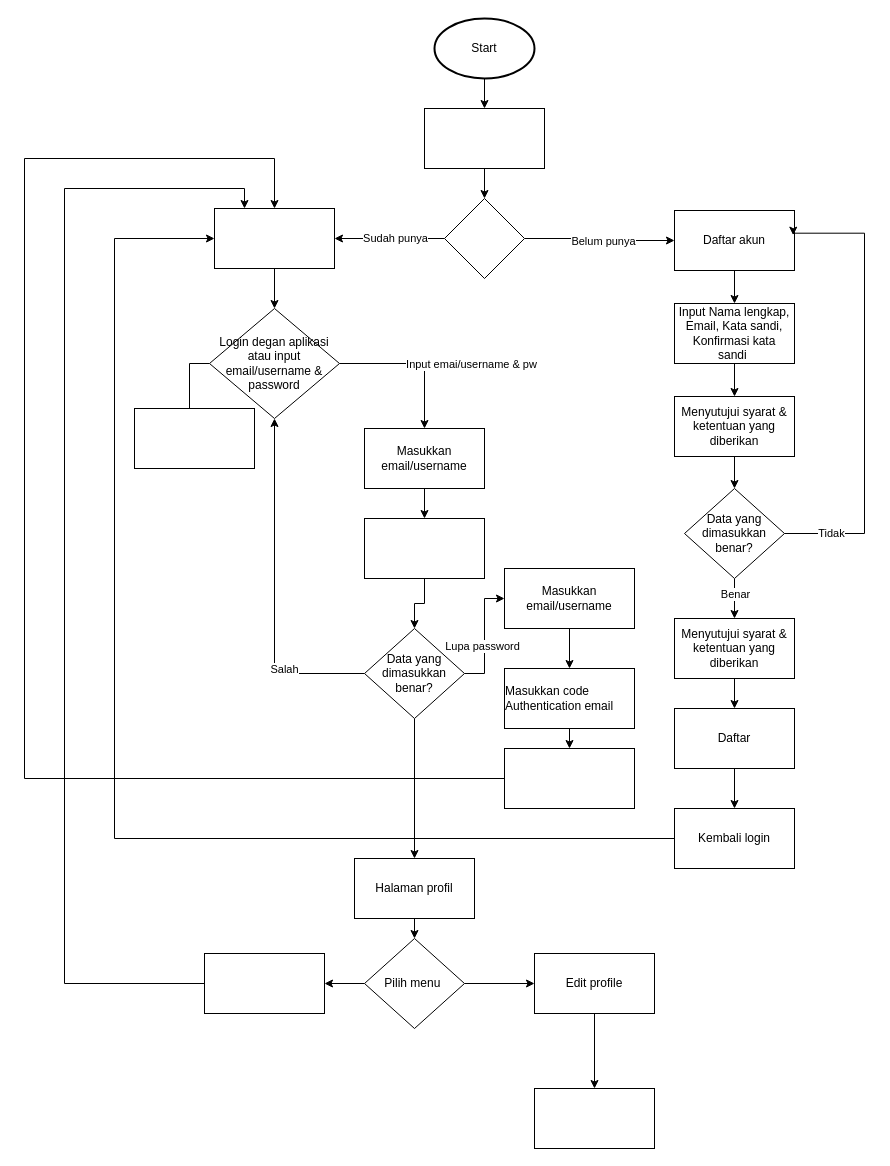
Some shapes in this 890 by 1166 pixel diagram are drawn without their labels. The box of each missing label's shape, as (x1, y1, x2, y2) in pixels:
Buka aplikasi: (424, 108, 544, 168)
Halaman login: (214, 208, 334, 268)
Logout: (204, 952, 324, 1014)
Masukkan kata sandi baru & konfirmasi kata sandi baru: (504, 748, 634, 808)
Masukkan password: (364, 518, 484, 578)
Pilih login lewat google/facebook: (134, 408, 254, 468)
Selesai: (534, 1088, 654, 1148)
Sudah punya akun?: (444, 198, 524, 278)
